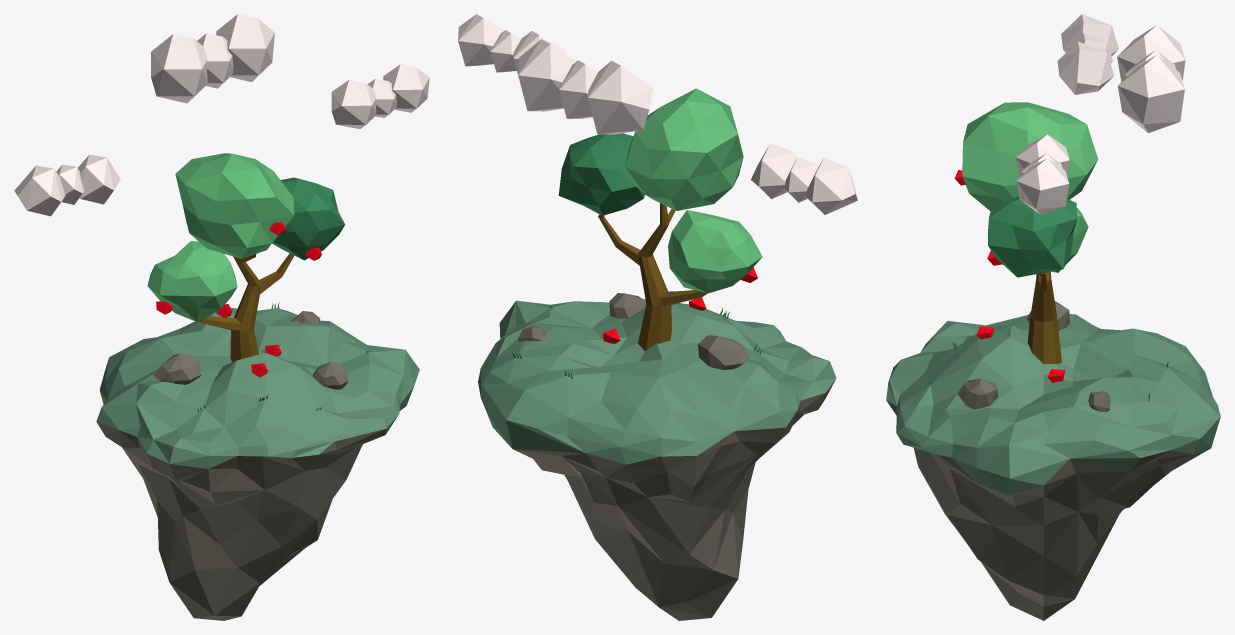
3 views of the same model, side by side, from view 1: azimuth 30°, elevation 25°; view 2: azimuth 150°, elevation 25°; view 3: azimuth 270°, elevation 25° (orthographic). The views are drawn at different scales.
Visible parts, largest first — view 1: Roundcube, Icosphere.001, Icosphere.008, Icosphere.002, Icosphere.006, Icosphere.007, Icosphere, Cylinder, Icosphere.003, Icosphere.004; view 2: Roundcube, Icosphere.001, Icosphere.008, Icosphere.002, Icosphere, Icosphere.007, Cylinder, Icosphere.006, Icosphere.003, Icosphere.004; view 3: Roundcube, Icosphere.001, Icosphere.008, Icosphere, Icosphere.007, Icosphere.006, Cylinder, Icosphere.004, Icosphere.002.
Boxes of the visible parts, x1,y1,x2,y2 form: Roundcube: [96, 308, 419, 620]; Icosphere.001: [175, 153, 294, 258]; Icosphere.008: [151, 14, 274, 103]; Icosphere.002: [147, 241, 237, 321]; Icosphere.006: [331, 64, 429, 129]; Icosphere.007: [14, 154, 120, 216]; Icosphere: [272, 177, 345, 260]; Cylinder: [199, 253, 294, 362]; Icosphere.003: [153, 353, 201, 384]; Icosphere.004: [313, 362, 348, 389]; Roundcube: [478, 299, 836, 620]; Icosphere.001: [625, 88, 743, 210]; Icosphere.008: [518, 39, 653, 134]; Icosphere.002: [668, 210, 762, 293]; Icosphere: [558, 133, 645, 215]; Icosphere.007: [751, 143, 857, 214]; Cylinder: [598, 203, 707, 350]; Icosphere.006: [458, 14, 565, 75]; Icosphere.003: [698, 335, 749, 369]; Icosphere.004: [609, 293, 646, 318]; Roundcube: [886, 313, 1220, 620]; Icosphere.001: [962, 102, 1098, 210]; Icosphere.008: [1117, 25, 1185, 133]; Icosphere: [988, 196, 1077, 277]; Icosphere.007: [1057, 14, 1118, 94]; Icosphere.006: [1015, 134, 1069, 214]; Cylinder: [1027, 271, 1061, 364]; Icosphere.004: [957, 378, 997, 409]; Icosphere.002: [1052, 199, 1088, 272].
Size of the model in its own units: 2562 by 3484 by 1757.
